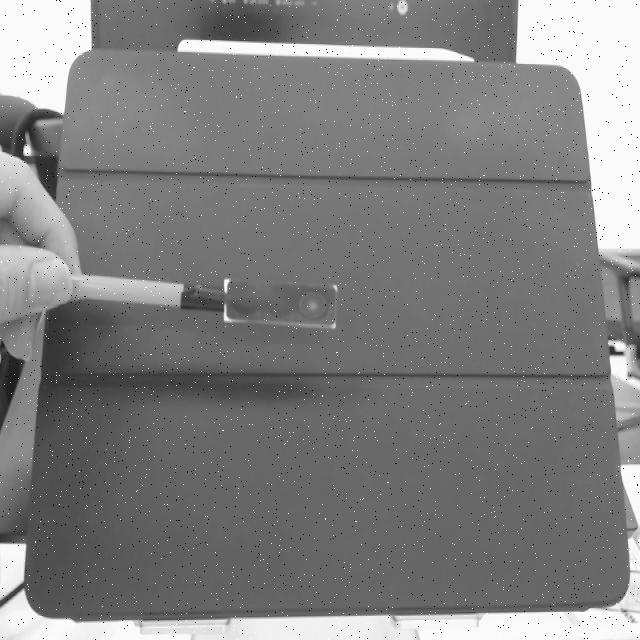traffic light: (222, 279, 342, 335)
